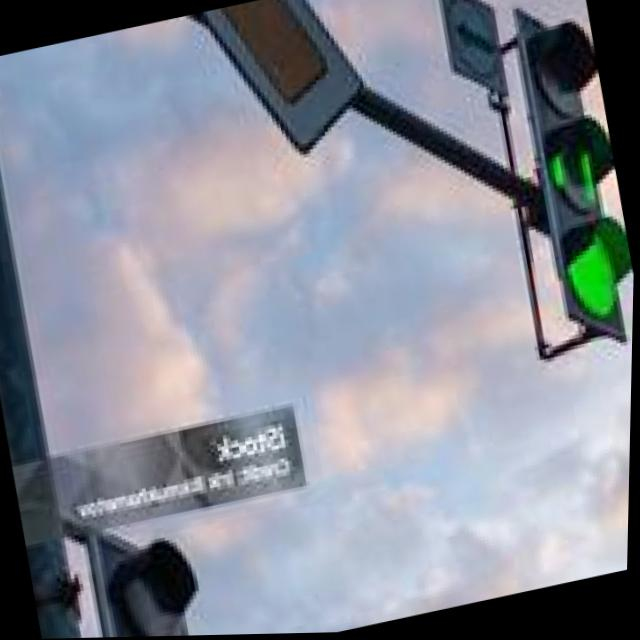green_light: (535, 213, 636, 346)
